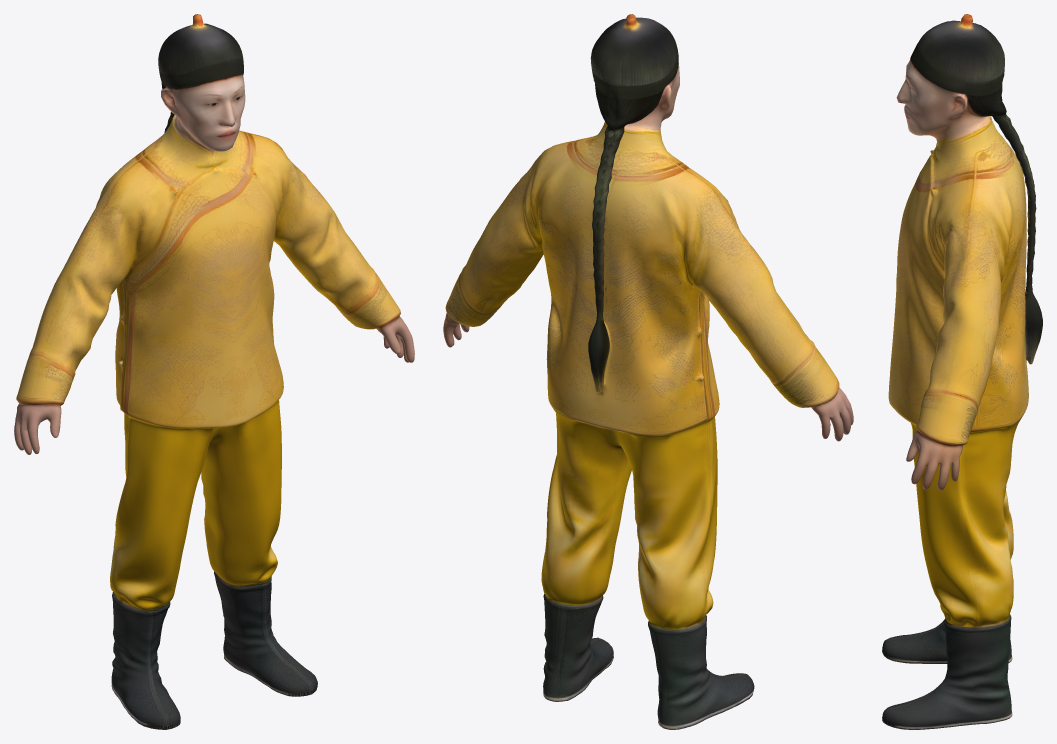
Rendered from Meshy_AI__0319084743_texture.fbx.
3 views of the same model, side by side, from view 1: azimuth 30°, elevation 25°; view 2: azimuth 150°, elevation 25°; view 3: azimuth 270°, elevation 25° (orthographic). The views are drawn at different scales.
Parts seen in each view (by area): view 1: Mesh_0; view 2: Mesh_0; view 3: Mesh_0.
Boxes of the visible parts, x1,y1,x2,y2 form: Mesh_0: (14,14,414,729); Mesh_0: (443,14,853,729); Mesh_0: (882,14,1042,729).
Size of the model in its own units: 122 by 200 by 43.27.
Materials: 1 (1 with a texture image).
